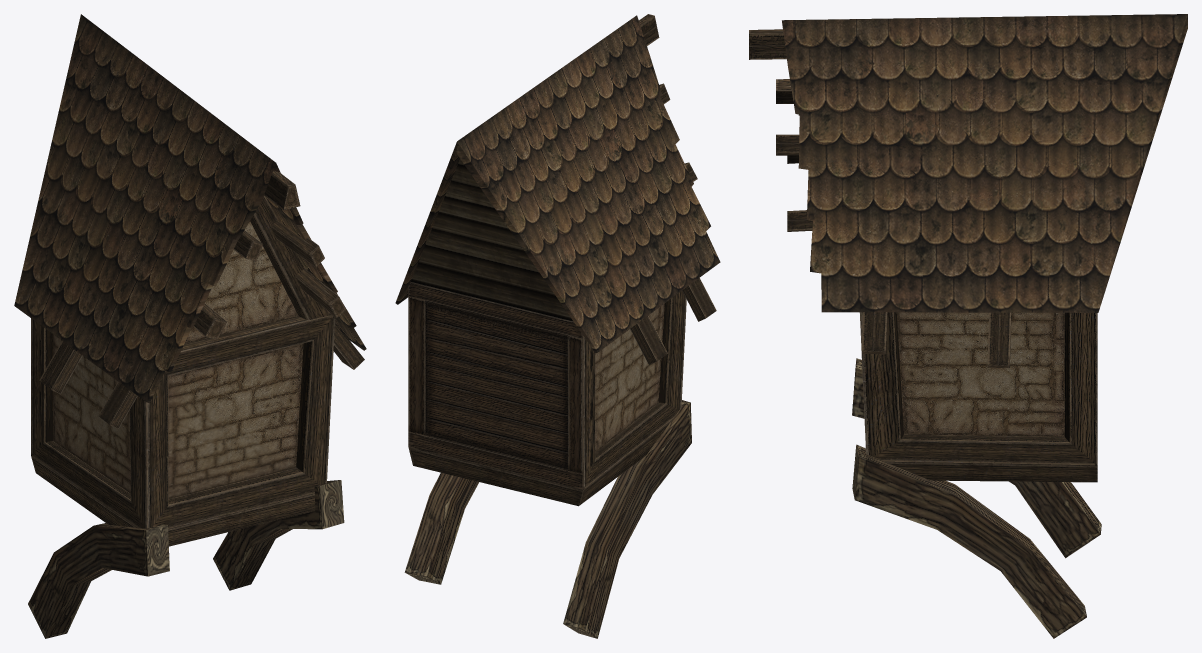
Rendered from Window_b03.fbx.
The picture shows the model from 3 angles, left to right: view 1: azimuth 30°, elevation 25°; view 2: azimuth 150°, elevation 25°; view 3: azimuth 270°, elevation 25°; orthographic projection. The views are drawn at different scales.
Parts seen in each view (by area): view 1: Window_b03; view 2: Window_b03; view 3: Window_b03.
Part boxes in pixels (x1,y1,x2,y2): Window_b03: [14, 14, 366, 638]; Window_b03: [395, 14, 720, 638]; Window_b03: [749, 14, 1187, 638].
Bounding box in the file's own units: 3.76 × 7.68 × 5.25.
